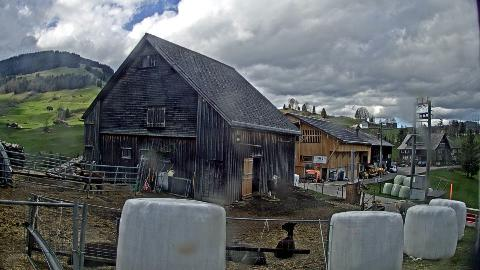car: (389, 166, 397, 172), (418, 162, 426, 166)
sheep: (66, 218, 118, 266), (226, 241, 268, 265), (274, 221, 298, 258), (77, 166, 103, 194), (266, 174, 280, 199), (396, 200, 412, 212), (372, 198, 382, 208), (252, 177, 260, 183)
